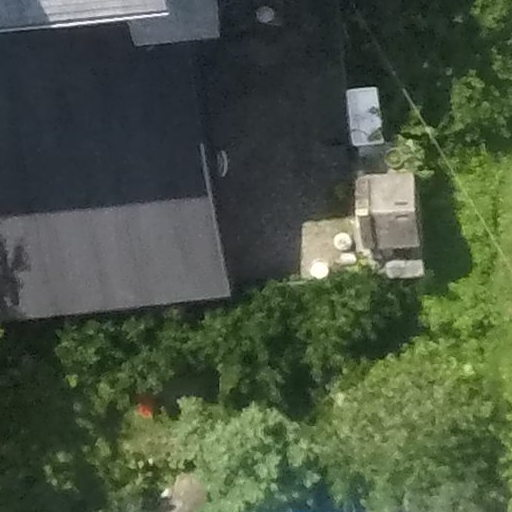container: (251, 4, 281, 24), (332, 229, 354, 253), (385, 146, 407, 169), (310, 259, 330, 282)
flower pot: (383, 145, 412, 171)
gutter: (1, 7, 170, 40)
